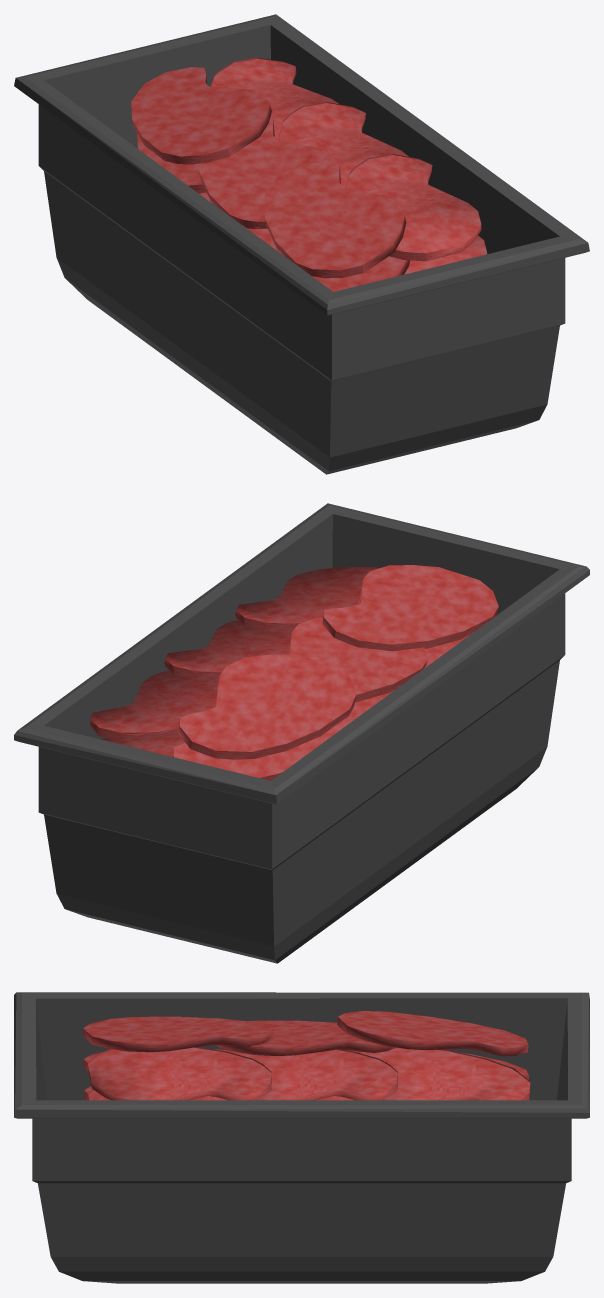
The model's file is StakeSpawner.fbx.
The picture shows the model from 3 angles, top to bottom: view 1: azimuth 30°, elevation 25°; view 2: azimuth 150°, elevation 25°; view 3: azimuth 270°, elevation 25°; orthographic projection. The views are drawn at different scales.
Visible parts, largest first — view 1: Cube; view 2: Cube; view 3: Cube.
Part boxes in pixels (x1,y1,x2,y2): Cube: [14, 14, 589, 474]; Cube: [14, 503, 589, 963]; Cube: [14, 992, 589, 1283].
Size of the model in its own units: 241 by 210 by 499.
